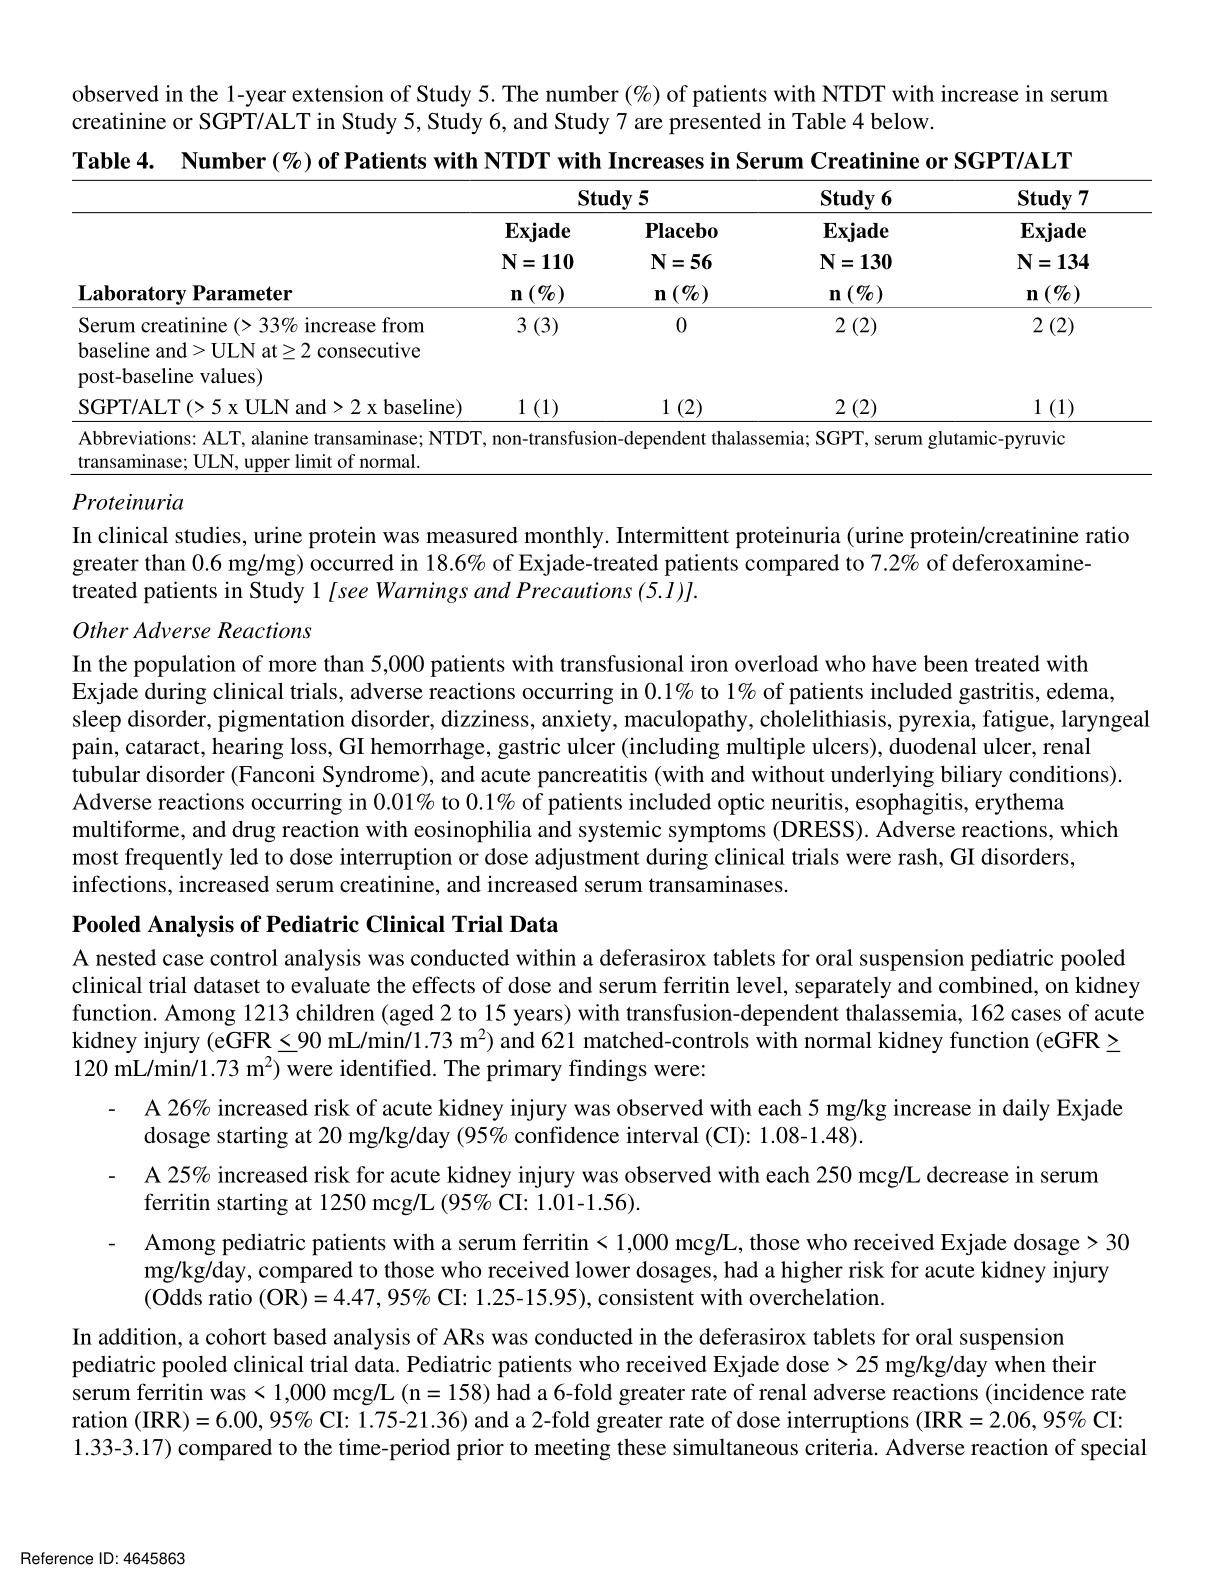partial_lined_merged_cells: (71, 177, 1153, 424)
